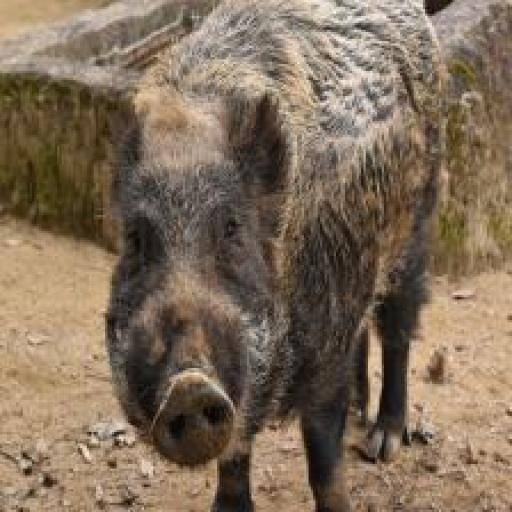Pig: (105, 0, 448, 512)
